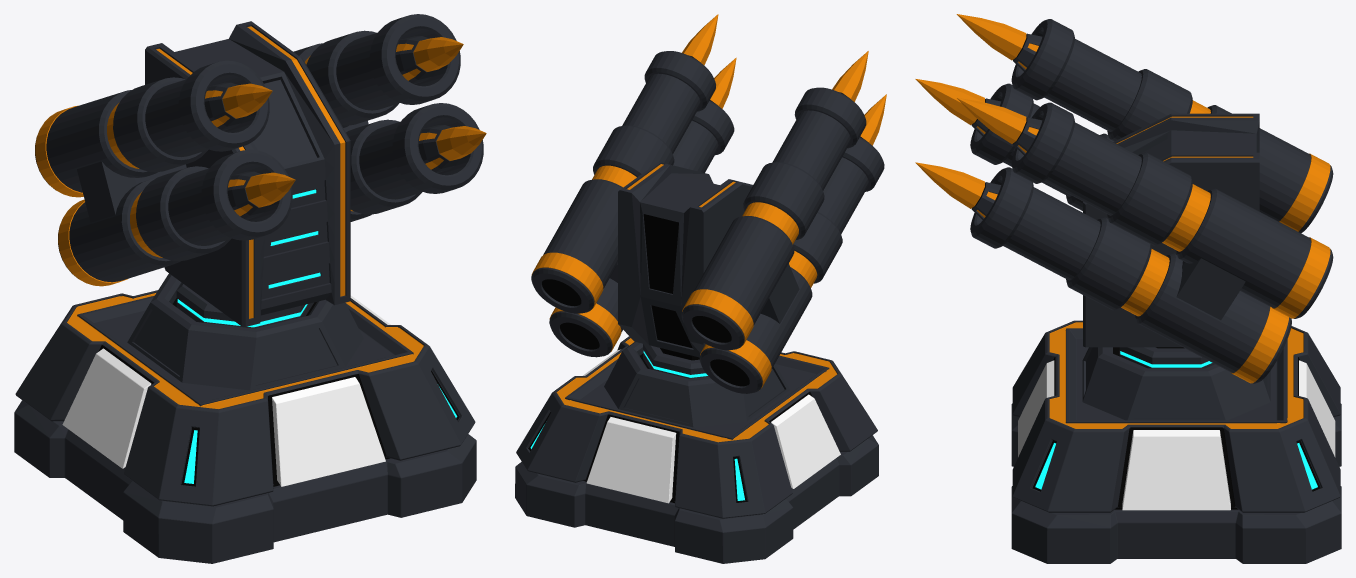
File: SM_Anti_Air_Turret.fbx
3 renders of one model, left to right at view 1: azimuth 30°, elevation 25°; view 2: azimuth 150°, elevation 25°; view 3: azimuth 270°, elevation 25°, orthographic. The views are drawn at different scales.
Visible parts, largest first — view 1: SM_Anti_Air_Turret_Base, SM_Anti_Air_Turret_Rotating_Head, SM_AA_Missile.003, SM_AA_Missile.004, SM_AA_Missile.002, SM_AA_Missile.001; view 2: SM_Anti_Air_Turret_Rotating_Head, SM_Anti_Air_Turret_Base, SM_AA_Missile.001, SM_AA_Missile.003, SM_AA_Missile.002, SM_AA_Missile.004; view 3: SM_Anti_Air_Turret_Rotating_Head, SM_Anti_Air_Turret_Base, SM_AA_Missile.003, SM_AA_Missile.001, SM_AA_Missile.002, SM_AA_Missile.004.
Part boxes in pixels (x1,y1,x2,y2): SM_Anti_Air_Turret_Base: (14, 273, 476, 563); SM_Anti_Air_Turret_Rotating_Head: (35, 14, 483, 326); SM_AA_Missile.003: (204, 82, 272, 130); SM_AA_Missile.004: (227, 171, 295, 219); SM_AA_Missile.002: (418, 125, 486, 173); SM_AA_Missile.001: (395, 36, 463, 84); SM_Anti_Air_Turret_Rotating_Head: (531, 51, 884, 393); SM_Anti_Air_Turret_Base: (515, 336, 878, 563); SM_AA_Missile.001: (682, 14, 718, 65); SM_AA_Missile.003: (832, 51, 868, 101); SM_AA_Missile.002: (709, 57, 736, 108); SM_AA_Missile.004: (860, 94, 886, 145); SM_Anti_Air_Turret_Rotating_Head: (970, 19, 1333, 383); SM_Anti_Air_Turret_Base: (1011, 320, 1341, 563); SM_AA_Missile.003: (956, 14, 1042, 71); SM_AA_Missile.001: (957, 97, 1042, 154); SM_AA_Missile.002: (915, 162, 1000, 219); SM_AA_Missile.004: (915, 79, 1000, 136).
Size of the model in its own units: 100 by 147 by 129.
